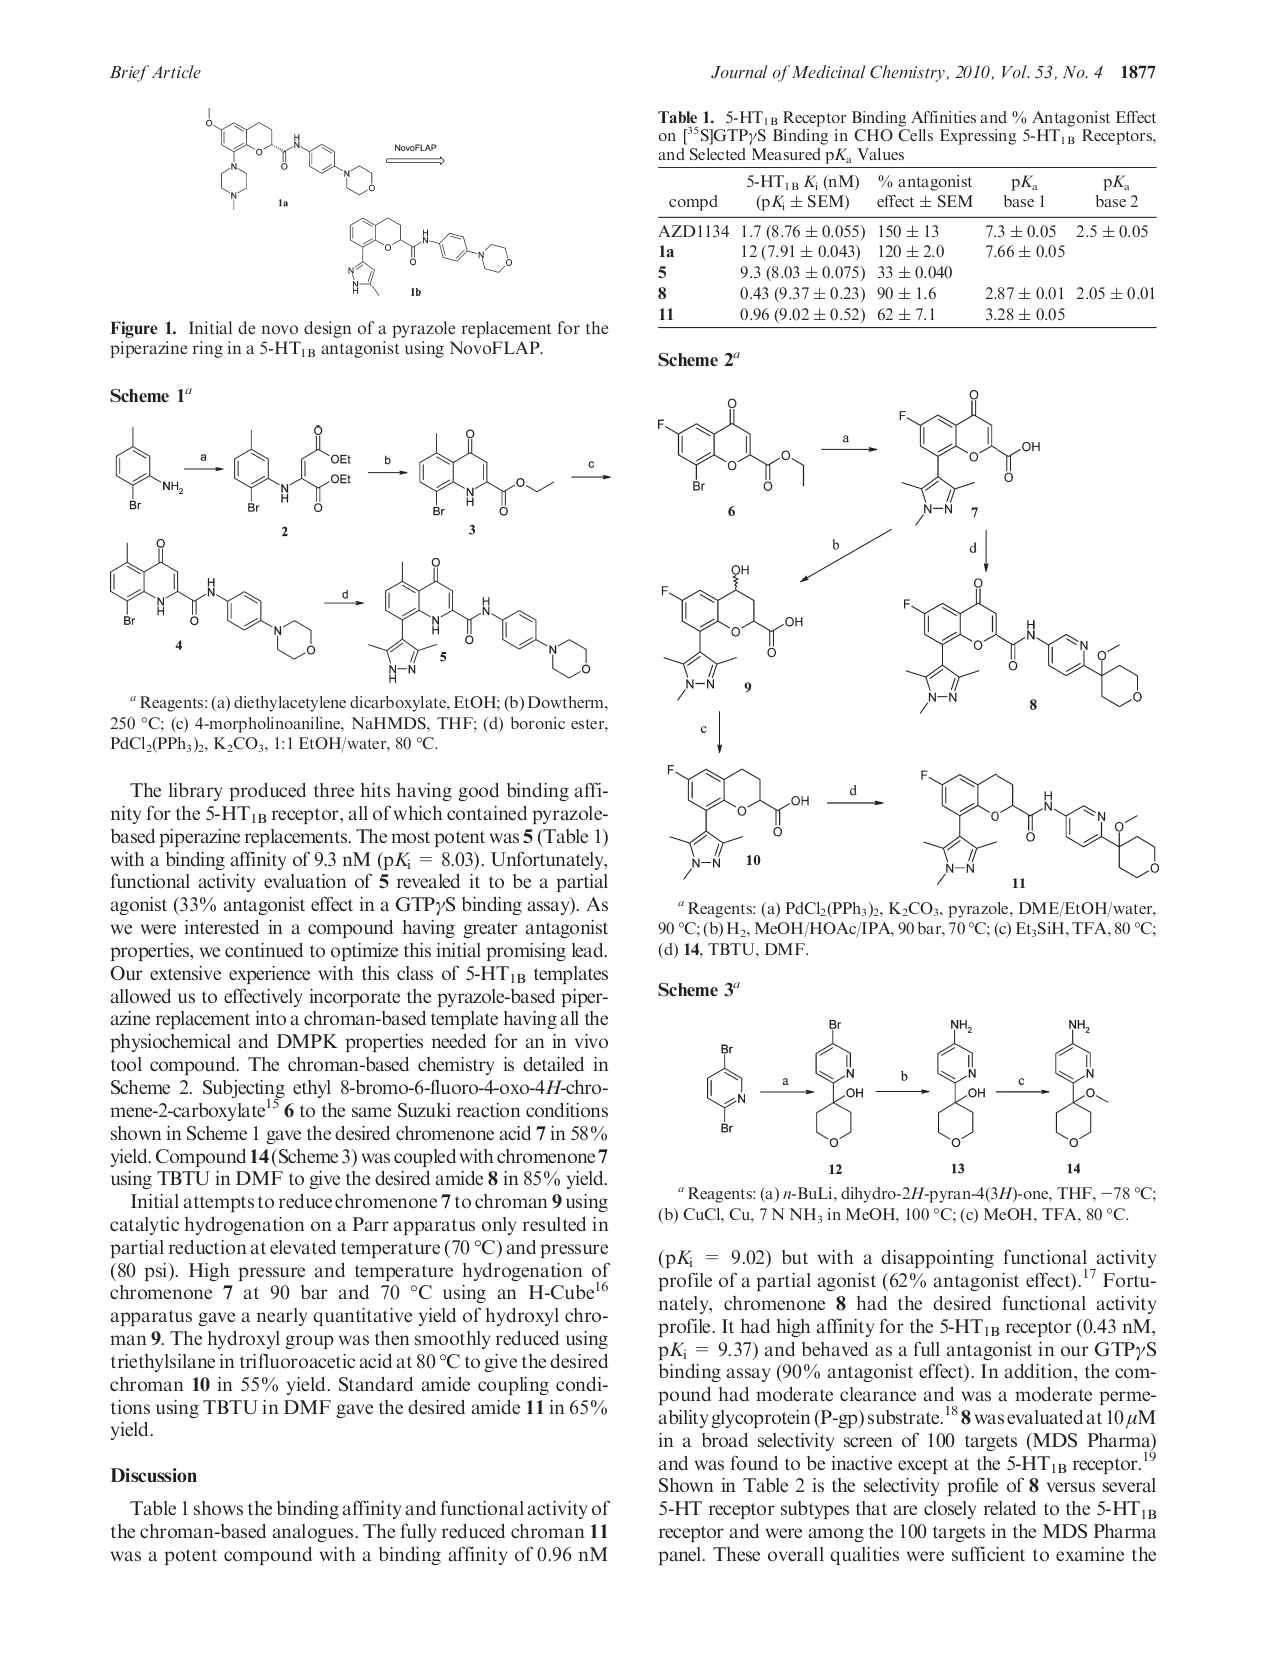exist_molecular: (902, 577, 1144, 715), (364, 556, 593, 685), (918, 767, 1161, 886), (108, 536, 316, 661), (898, 388, 1043, 528), (660, 563, 805, 702), (203, 102, 378, 211), (664, 759, 811, 880), (656, 398, 807, 493), (344, 215, 515, 297), (418, 427, 556, 519), (231, 424, 352, 516), (1052, 1016, 1109, 1149), (934, 1016, 987, 1148), (813, 1017, 864, 1149), (114, 426, 188, 511), (705, 1043, 747, 1134)
